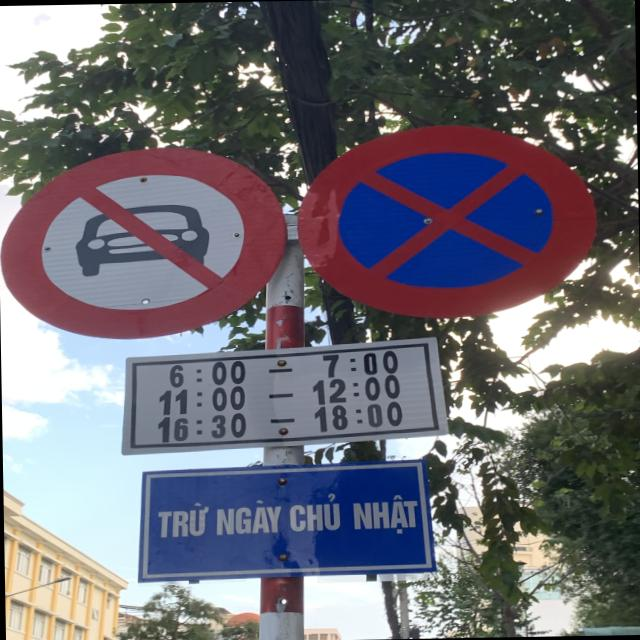Cam_Dung_Va_Dau_Xe: (298, 120, 601, 324)
Cam_O_To: (0, 139, 289, 344)
